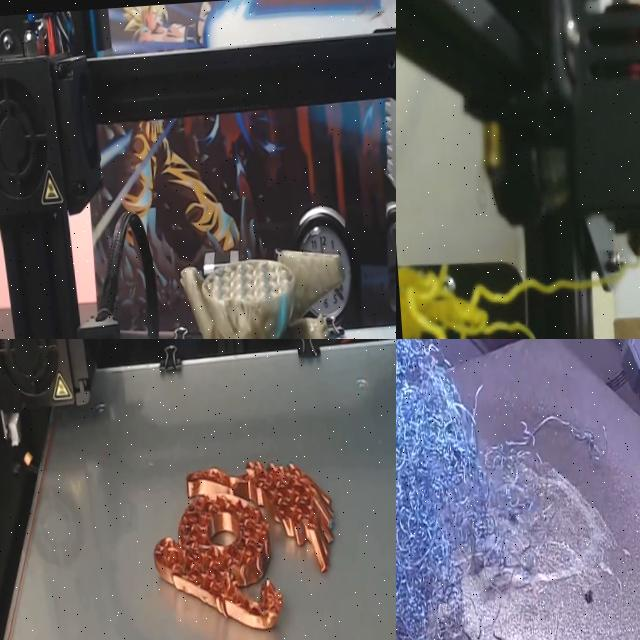spaghetti: (396, 339, 568, 640), (398, 265, 590, 339)
